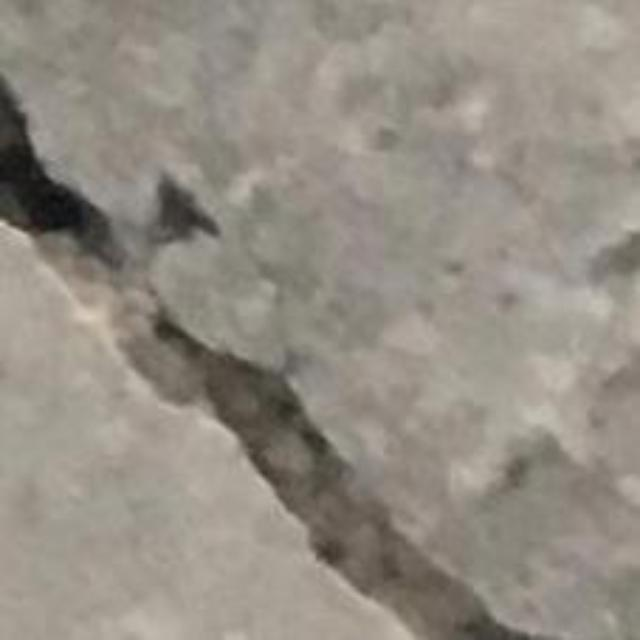crack: (0, 77, 552, 639)
